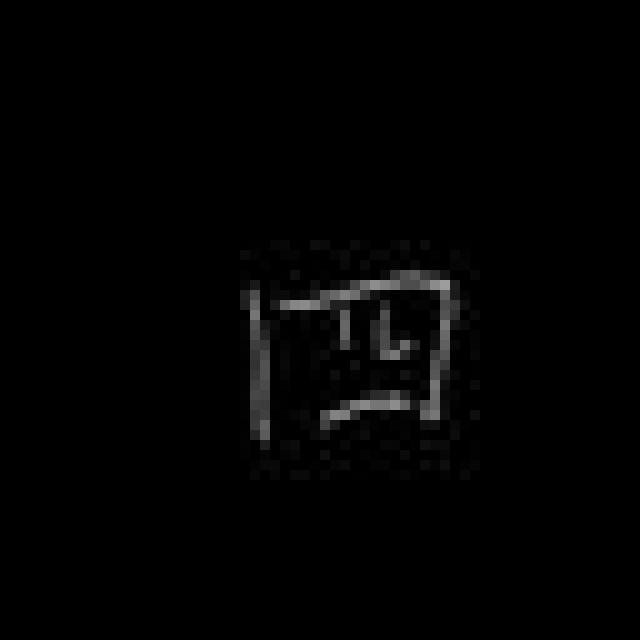4 -four-: (230, 264, 466, 452)
